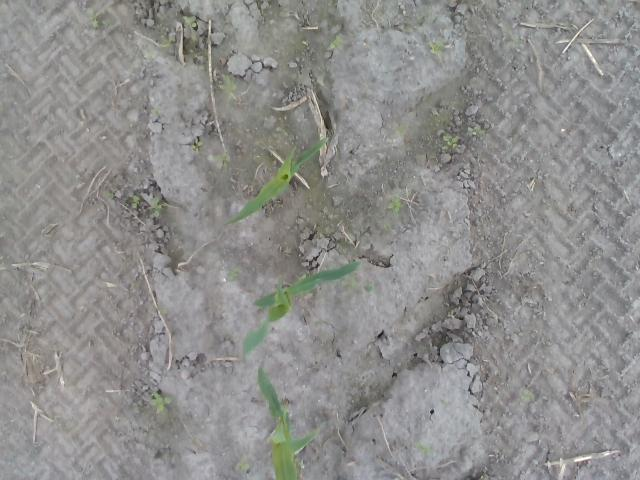Maize: (242, 261, 360, 364), (225, 138, 332, 224), (257, 367, 324, 480)
Weeds: (343, 278, 375, 299), (148, 390, 172, 414), (85, 6, 107, 30), (218, 76, 238, 101), (150, 198, 166, 221), (412, 442, 434, 455), (442, 135, 458, 152), (328, 36, 344, 52), (466, 128, 484, 142), (428, 41, 446, 54), (227, 268, 243, 282), (212, 155, 230, 167), (388, 198, 403, 212), (234, 462, 249, 476), (522, 388, 536, 402), (184, 15, 198, 29), (294, 458, 308, 472), (394, 123, 406, 138), (130, 194, 139, 210), (144, 48, 156, 59), (194, 140, 203, 154), (105, 190, 117, 200), (162, 38, 172, 48), (443, 399, 452, 408), (383, 223, 392, 232), (22, 325, 31, 334), (152, 109, 162, 117), (448, 311, 456, 320), (206, 306, 215, 314), (480, 473, 490, 479), (156, 307, 166, 313)
